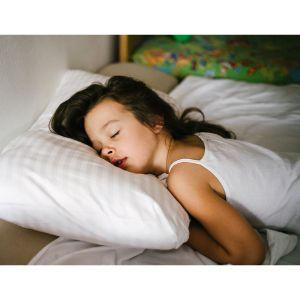sleep: (45, 78, 299, 261), (92, 117, 147, 172)
